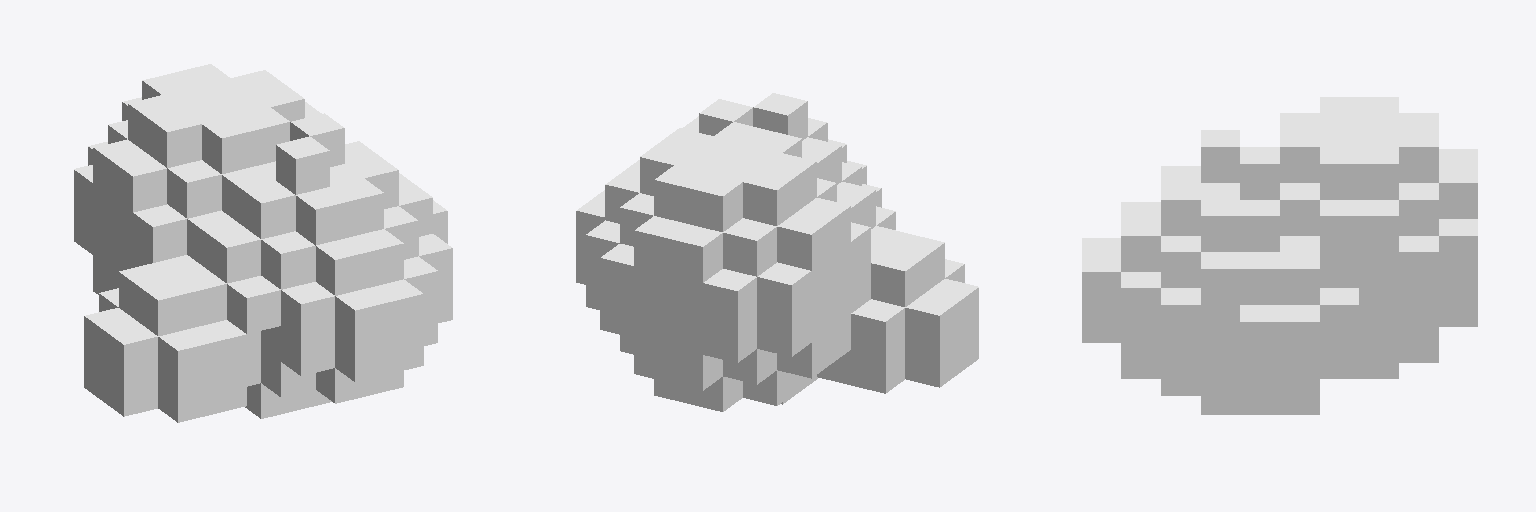
Rendered from CountrySide-0-Vegetation3.obj.
3 renders of one model, left to right at view 1: azimuth 30°, elevation 25°; view 2: azimuth 150°, elevation 25°; view 3: azimuth 270°, elevation 25°, orthographic.
Visible parts, largest first — view 1: Vegetation3; view 2: Vegetation3; view 3: Vegetation3.
Part boxes in pixels (left/top/right/bottom): Vegetation3: left=74, top=64, right=452, bottom=422; Vegetation3: left=576, top=93, right=978, bottom=411; Vegetation3: left=1082, top=97, right=1477, bottom=414.
Size of the model in its own units: 1 by 0.7 by 1.